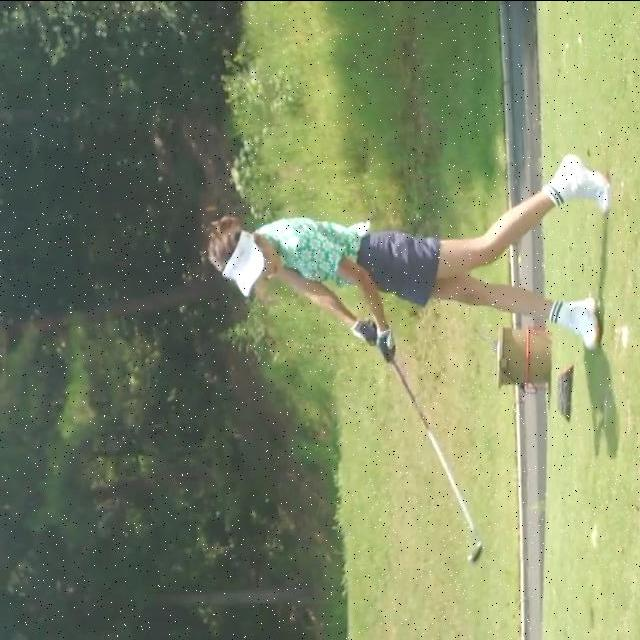golf club-handle: (364, 316, 489, 567)
golf club-head: (467, 539, 485, 563)
